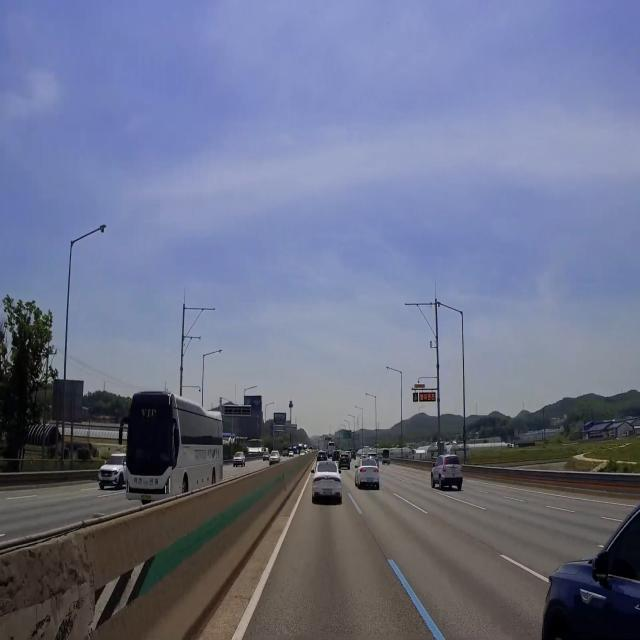car: (320, 485, 336, 498), (139, 492, 153, 505), (100, 472, 113, 486), (365, 476, 377, 488)
